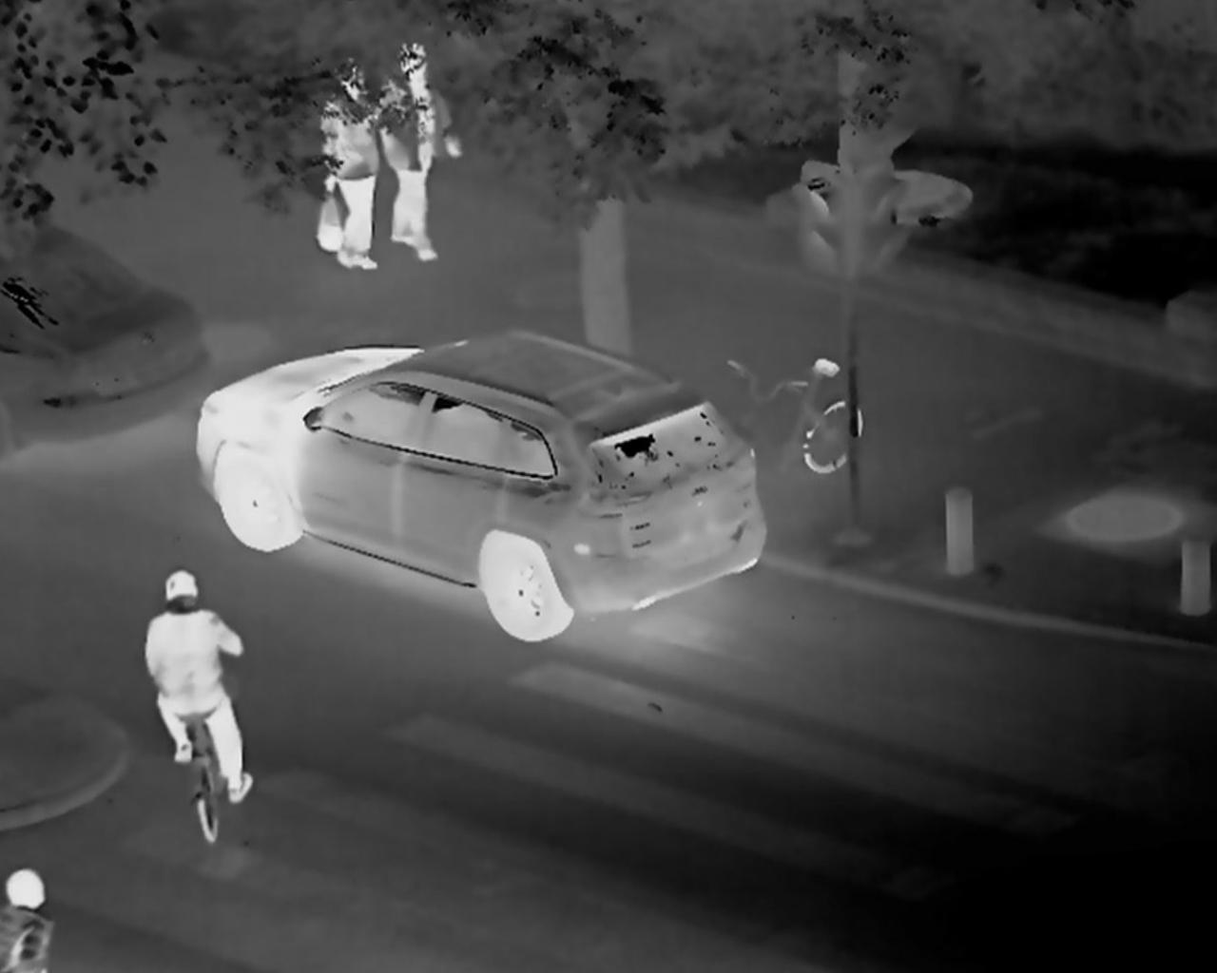person: (144, 563, 253, 802), (373, 43, 459, 268), (319, 50, 385, 275)
